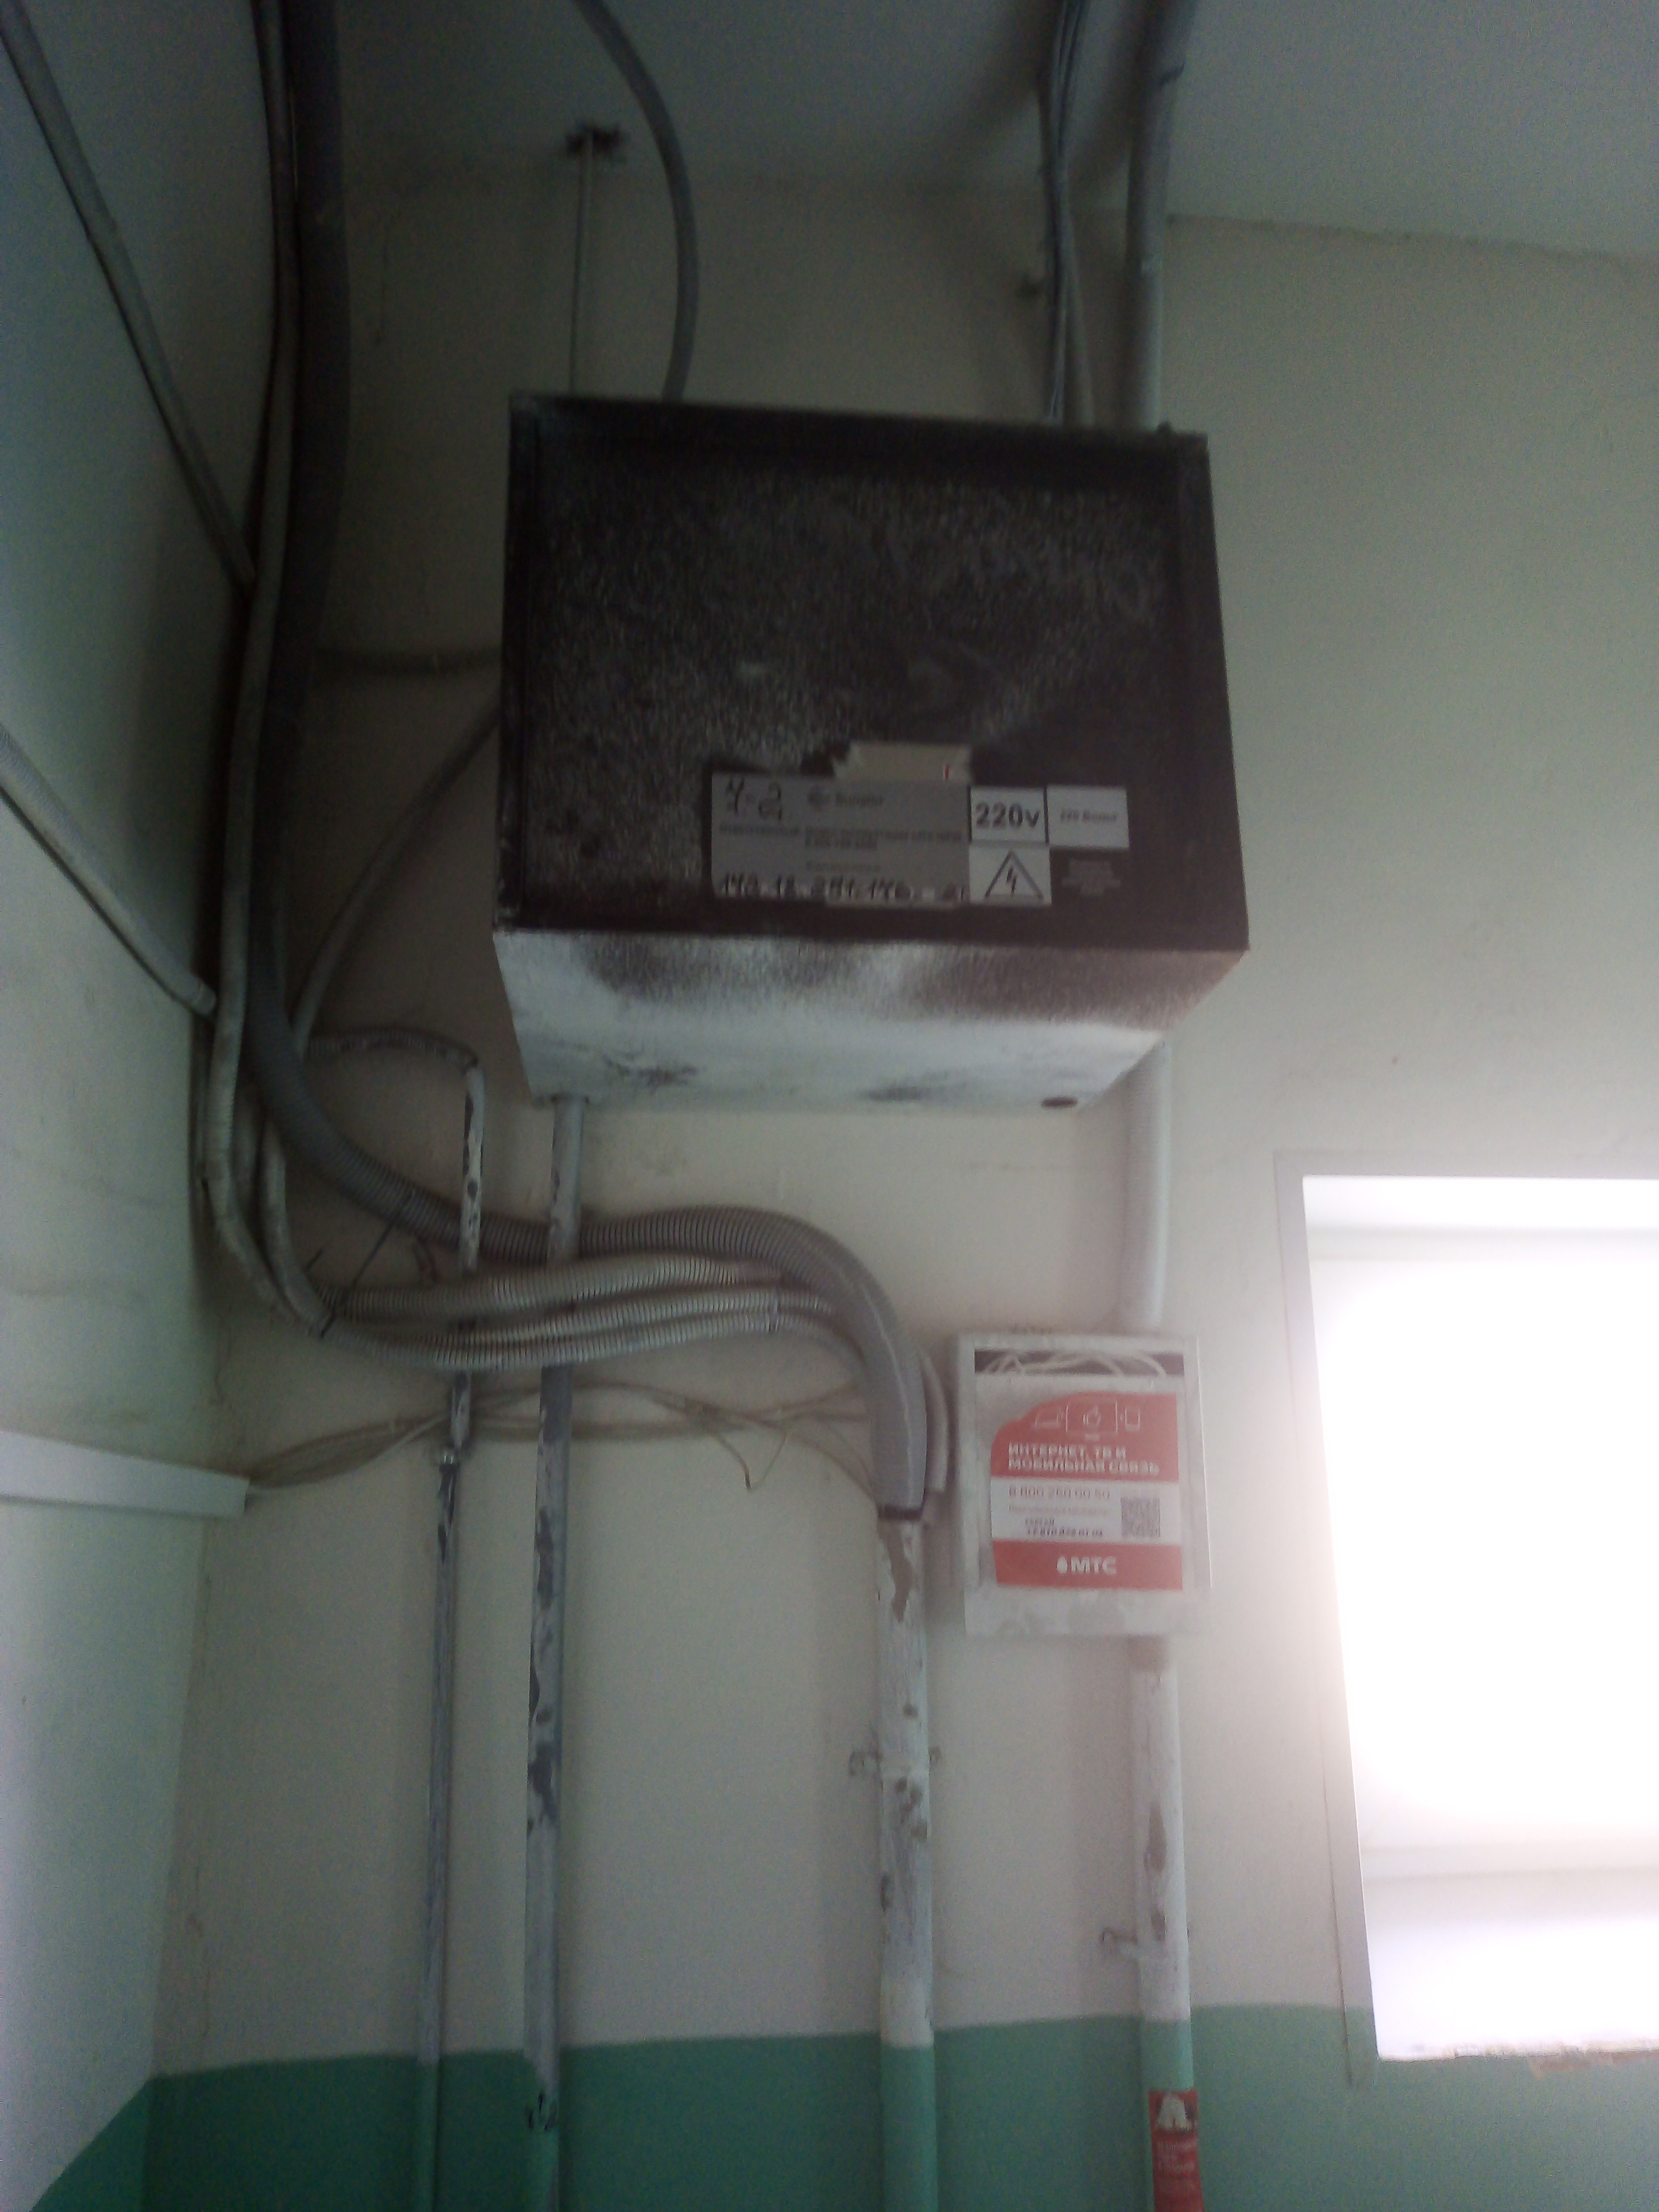shta-9m: (481, 387, 1253, 1116)
